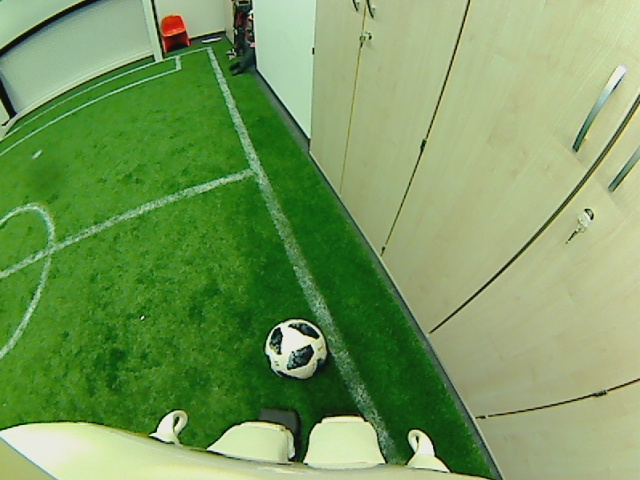ball: (262, 316, 327, 379)
